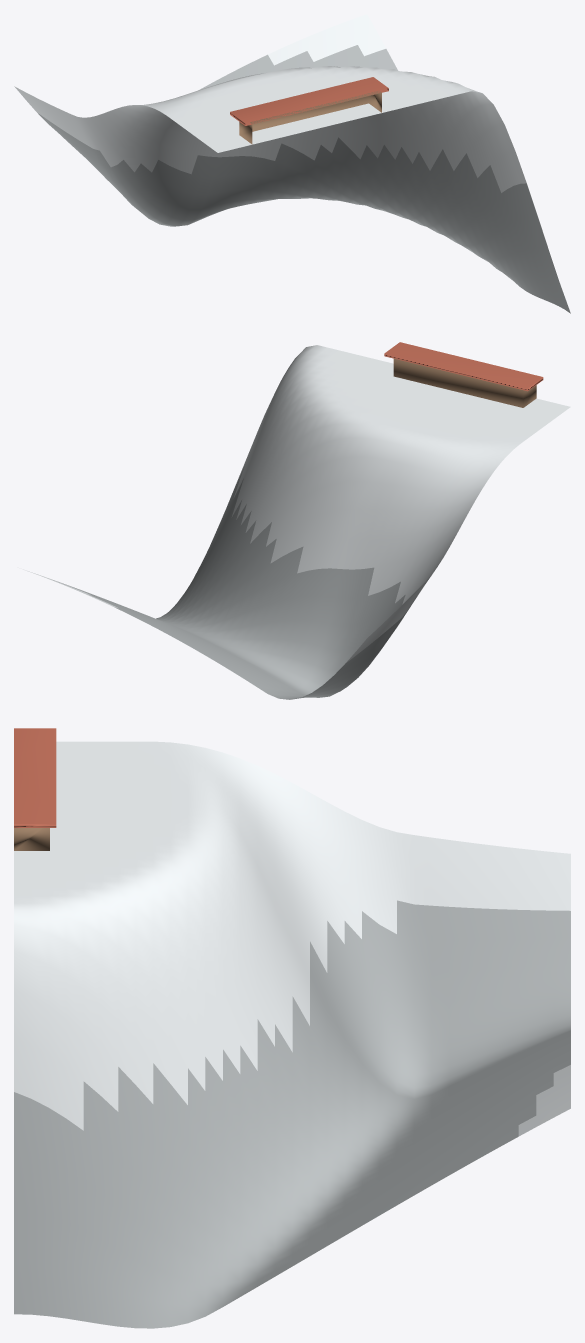
The model's file is alpine-13-11.glb.
3 renders of one model, top to bottom at view 1: azimuth 30°, elevation 25°; view 2: azimuth 150°, elevation 25°; view 3: azimuth 270°, elevation 25°, orthographic. The views are drawn at different scales.
Parts seen in each view (by area): view 1: alpine-13-11; view 2: alpine-13-11; view 3: alpine-13-11.
Boxes of the visible parts, x1,y1,x2,y2 form: alpine-13-11: (14,14,570,313); alpine-13-11: (23,342,570,699); alpine-13-11: (14,728,570,1328).
Size of the model in its own units: 256 by 194 by 256.
4 materials, 4 textured.
